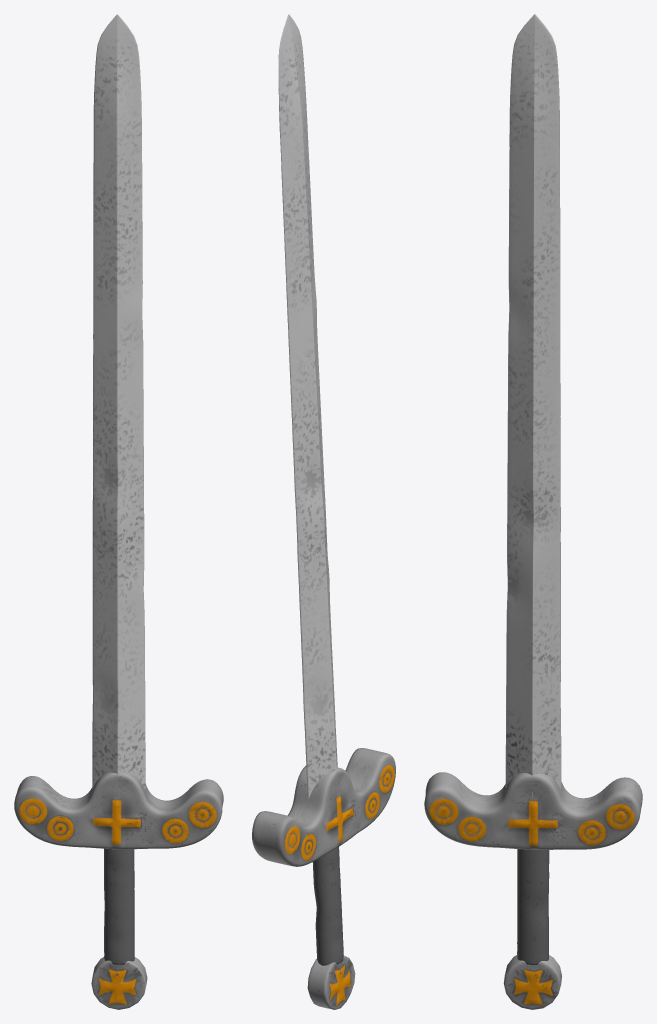
File: sword.glb
3 views of the same model, side by side, from view 1: azimuth 90°, elevation 25°; view 2: azimuth 150°, elevation 25°; view 3: azimuth 270°, elevation 25° (orthographic). The views are drawn at different scales.
Visible parts, largest first — view 1: Object_15; view 2: Object_15; view 3: Object_15.
Part boxes in pixels (box(x1,y1,x2,y2)): Object_15: box(14, 14, 223, 1009); Object_15: box(252, 14, 395, 1009); Object_15: box(424, 14, 642, 1009).
Size of the model in its own units: 9.23 by 141 by 27.58.
1 material, 1 textured.
